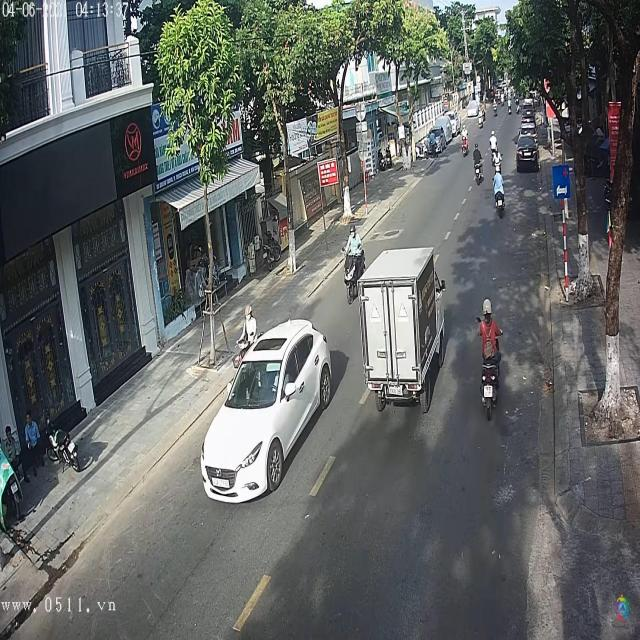car: (199, 317, 335, 501), (515, 132, 542, 172)
motorcycle: (478, 340, 506, 426), (339, 244, 365, 308), (493, 183, 508, 219), (474, 159, 484, 187)
truck: (355, 245, 446, 410)
